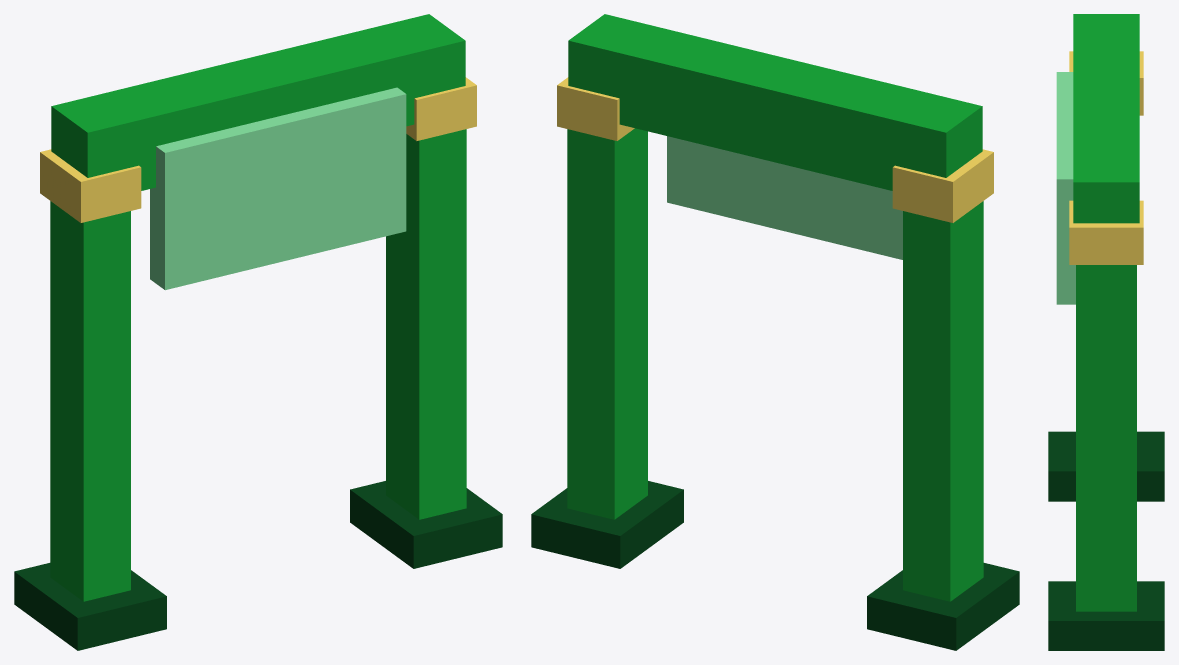
The model's file is gate_positive.glb.
3 views of the same model, side by side, from view 1: azimuth 30°, elevation 25°; view 2: azimuth 150°, elevation 25°; view 3: azimuth 270°, elevation 25° (orthographic). The views are drawn at different scales.
Parts seen in each view (by area): view 1: PositiveGate; view 2: PositiveGate; view 3: PositiveGate.
Boxes of the visible parts, <box> form: PositiveGate: <box>14,14,502,650</box>; PositiveGate: <box>531,14,1019,650</box>; PositiveGate: <box>1048,14,1164,650</box>.
Bounding box in the file's own units: 1.62 × 1.83 × 0.42.
